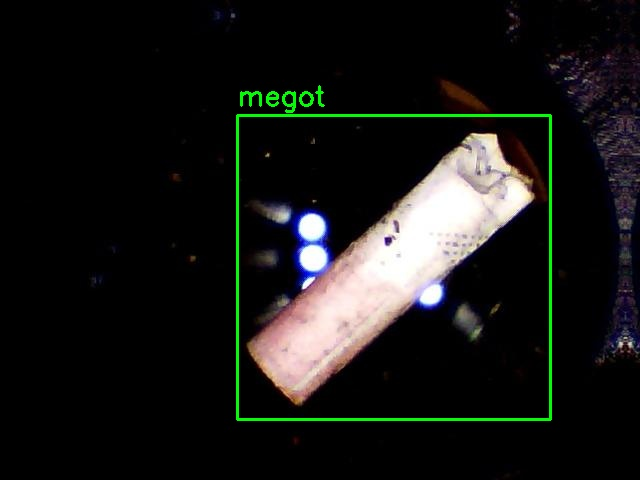megot: (237, 115, 550, 419)
